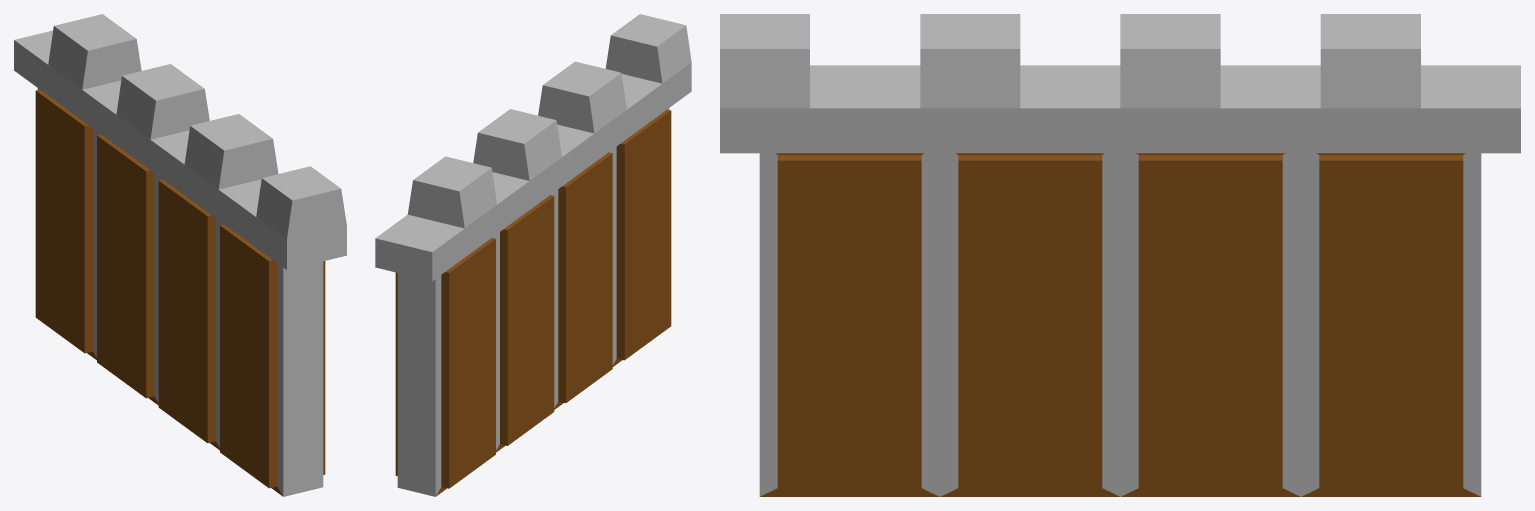
Rendered from wall_segment3.glb.
The picture shows the model from 3 angles, left to right: view 1: azimuth 30°, elevation 25°; view 2: azimuth 150°, elevation 25°; view 3: azimuth 270°, elevation 25°; orthographic projection. The views are drawn at different scales.
Parts seen in each view (by area): view 1: Cube.003; view 2: Cube.003; view 3: Cube.003.
Part boxes in pixels (bbox=[...]): Cube.003: bbox=[14, 14, 346, 496]; Cube.003: bbox=[375, 14, 691, 496]; Cube.003: bbox=[720, 14, 1520, 496].
Bounding box in the file's own units: 0.2823 × 1.38 × 2.22.
